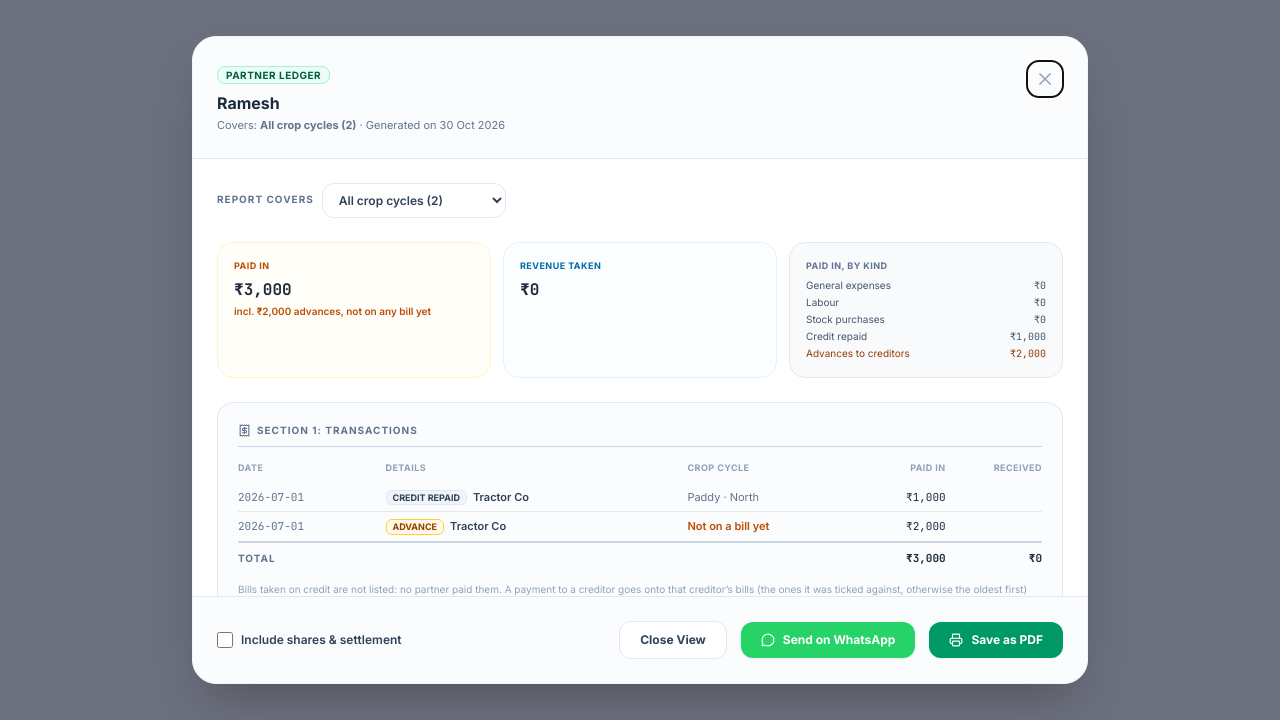
Test: PartnerReportModal: creditor payments and advances › keeps the advances in Paid in when the report is narrowed to one crop cycle
The width and height of the screenshot is (1280, 720).
Select "Cotton · South — Active" in the dropdown: (414, 200) [322,182,506,218]
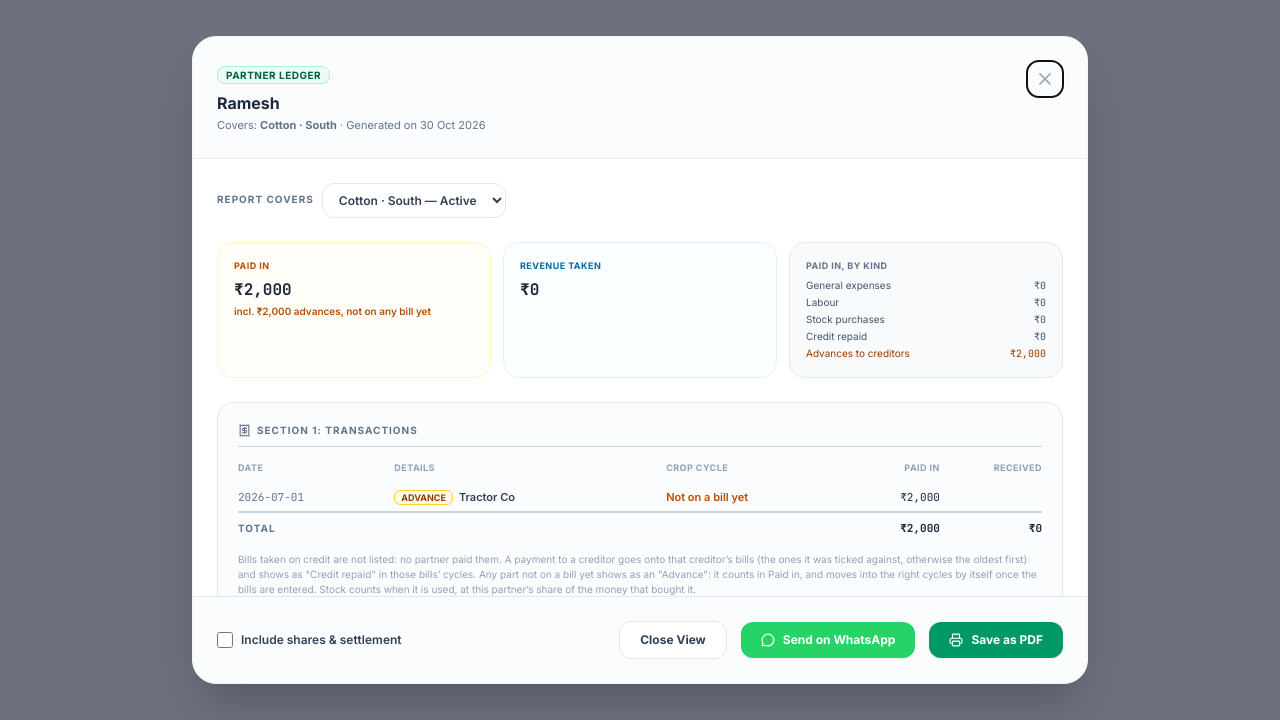
Expected: the text "Advances to creditors" is shown, [806,346,910,361]
Result: the 1st text "₹2,000" is shown at [234,279,292,300]
